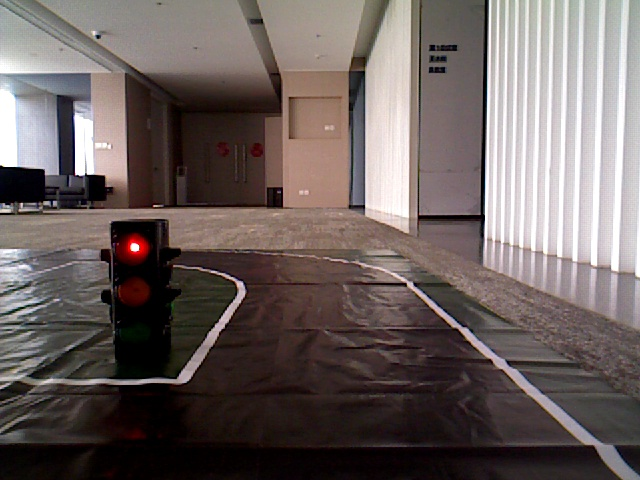red: (110, 222, 160, 358)
